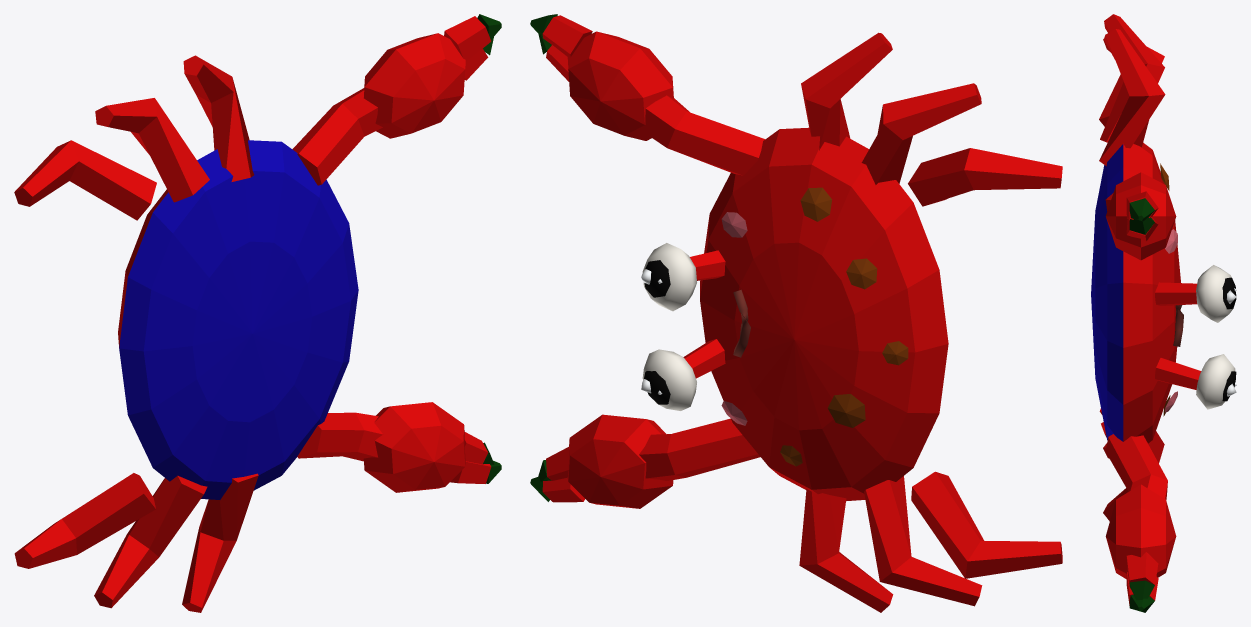
Rendered from fish-crab.glb.
3 renders of one model, left to right at view 1: azimuth 30°, elevation 25°; view 2: azimuth 150°, elevation 25°; view 3: azimuth 270°, elevation 25°, orthographic. The views are drawn at different scales.
Parts seen in each view (by area): view 1: body; view 2: body; view 3: body.
Part boxes in pixels (<box>): body: <box>14,14,501,612</box>; body: <box>530,14,1062,612</box>; body: <box>1091,14,1236,612</box>.
Bounding box in the file's own units: 0.8653 × 0.9228 × 0.2481.
